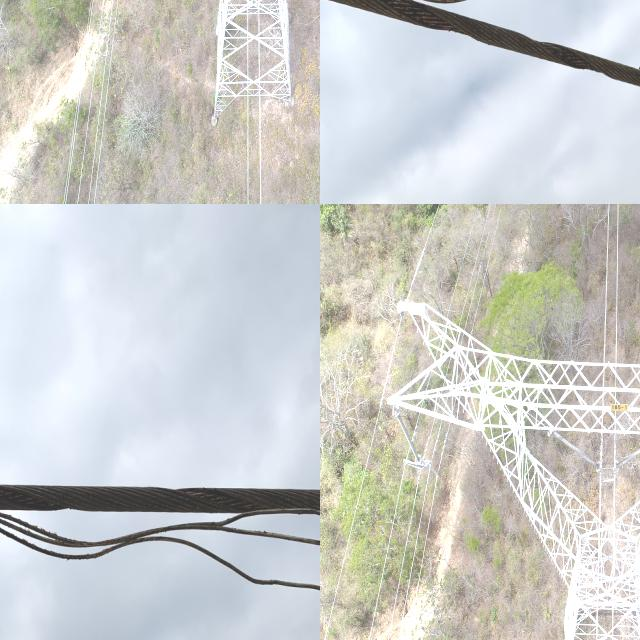杆塔: (372, 265, 640, 640), (96, 0, 320, 117)
正常绝缘子: (388, 396, 425, 483), (546, 424, 602, 475), (613, 445, 640, 474)
电缆破损: (0, 495, 320, 606), (320, 0, 640, 104)
